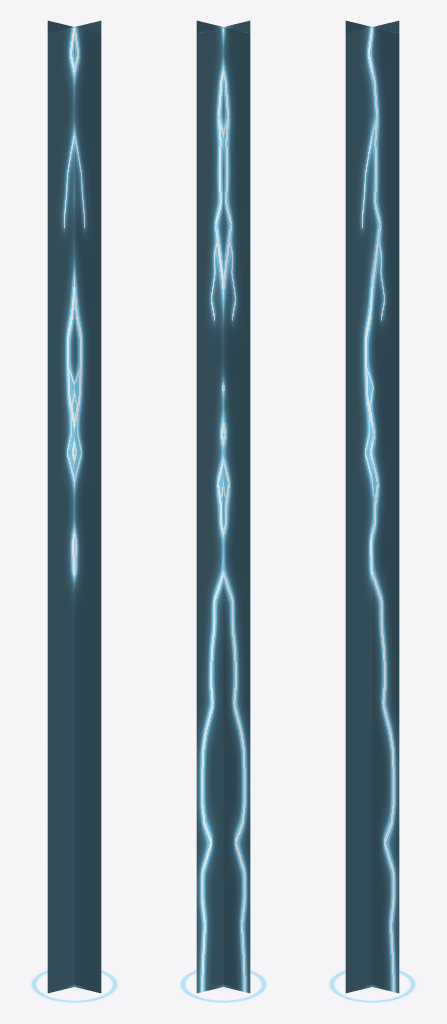
File: fx_sigil.glb
3 views of the same model, side by side, from view 1: azimuth 30°, elevation 25°; view 2: azimuth 210°, elevation 25°; view 3: azimuth 330°, elevation 25° (orthographic).
Visible parts, largest first — view 1: fx_bolt, fx_impact; view 2: fx_bolt, fx_impact; view 3: fx_bolt, fx_impact.
Boxes of the visible parts, x1,y1,x2,y2 form: fx_bolt: (47, 20, 101, 993); fx_impact: (31, 970, 117, 1002); fx_bolt: (196, 20, 250, 993); fx_impact: (180, 970, 266, 1002); fx_bolt: (345, 20, 399, 993); fx_impact: (329, 970, 415, 1002).
Size of the model in its own units: 1 by 12 by 1.
2 materials, 2 textured.
